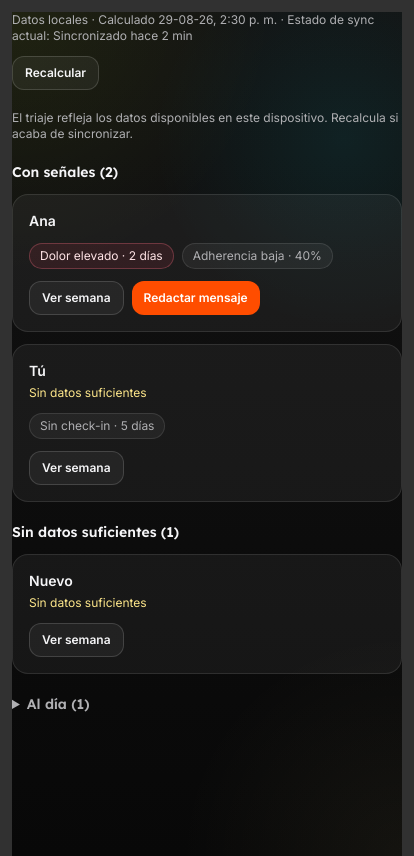
Test: CoachAssistantPanel › una respuesta inválida no renderiza cuerpo parcial
Click the button with test id "draft-ath_a": (196, 298) [132,281,260,315]
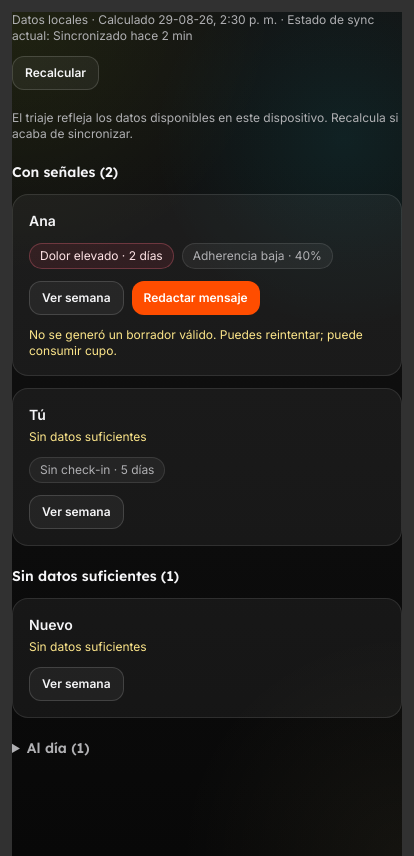
Result: the message "No se generó un borrador válido. Puedes reintentar; puede consumir cupo." is shown at [29,327,385,359]
